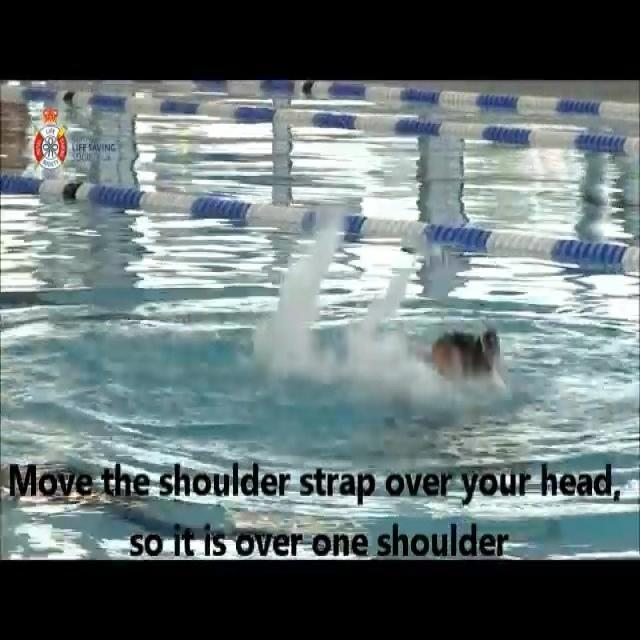Drowning: (417, 327, 509, 402)
